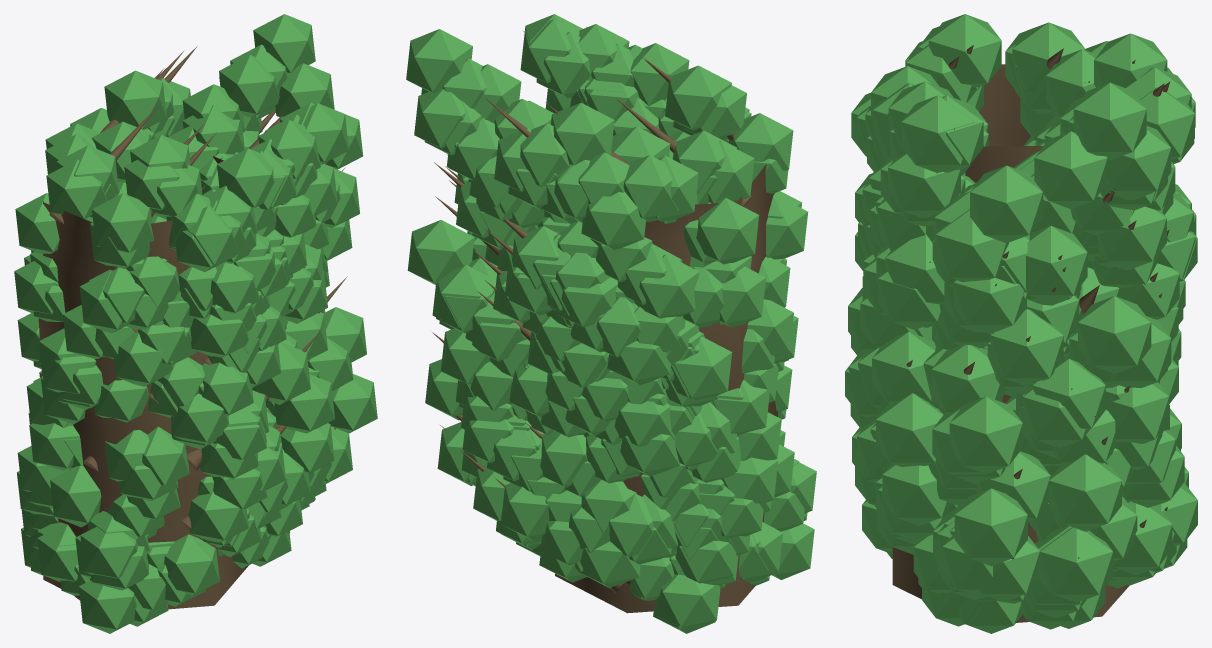
File: tree_var_1247.glb
3 views of the same model, side by side, from view 1: azimuth 30°, elevation 25°; view 2: azimuth 150°, elevation 25°; view 3: azimuth 270°, elevation 25° (orthographic). The views are drawn at different scales.
Parts seen in each view (by area): view 1: tree_var_1247; view 2: tree_var_1247; view 3: tree_var_1247.
Part boxes in pixels (bbox=[...]): tree_var_1247: bbox=[14, 14, 377, 633]; tree_var_1247: bbox=[406, 14, 816, 633]; tree_var_1247: bbox=[845, 14, 1197, 633].
Size of the model in its own units: 3.6 by 5.35 by 2.74.
